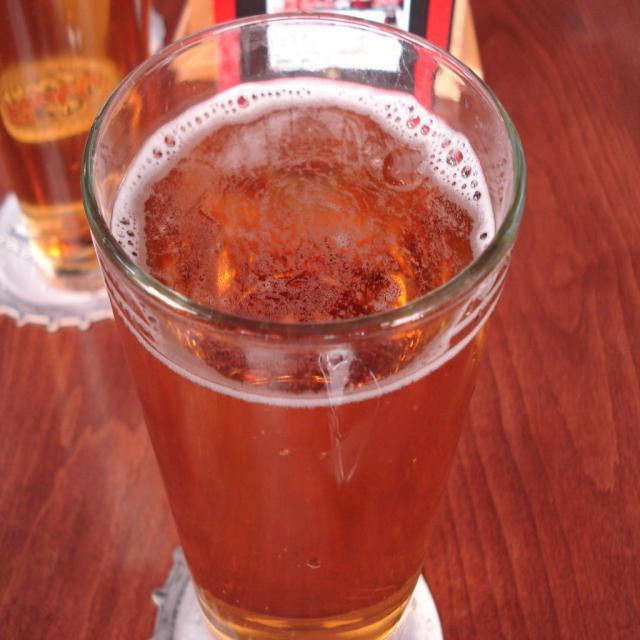Juice: (106, 77, 502, 639)
